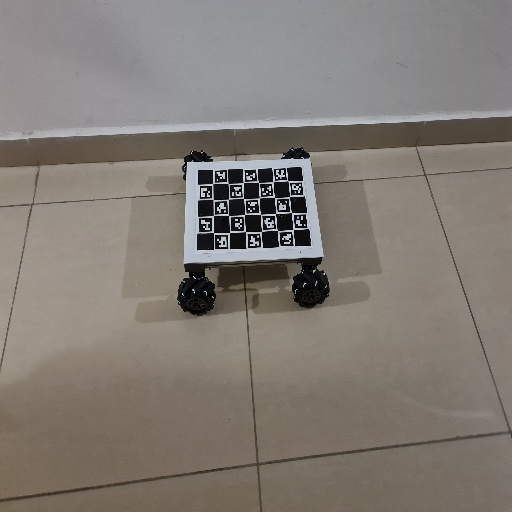Omniwheel: (178, 147, 331, 319)
